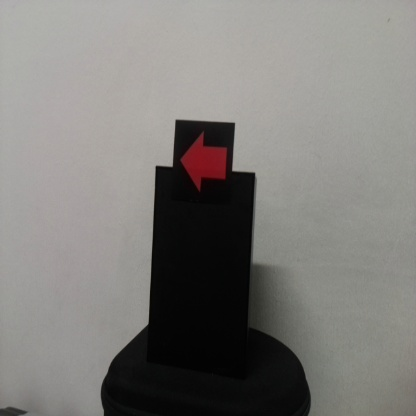id_4: (176, 122, 232, 204)
